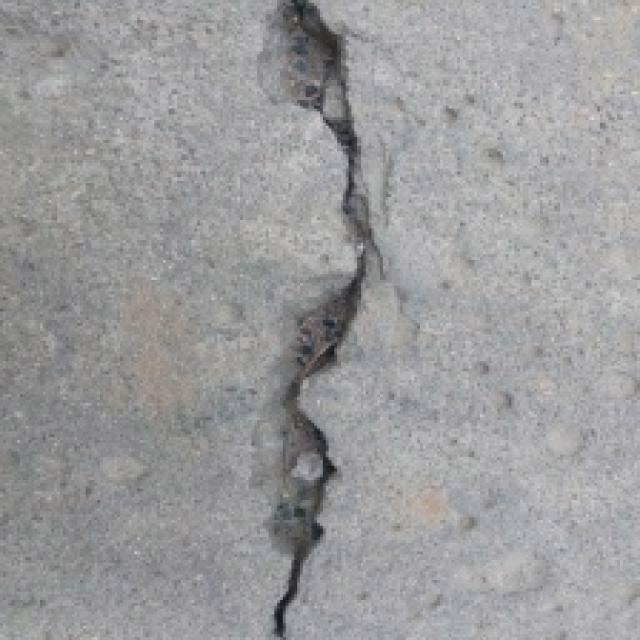crack: (256, 4, 394, 640)
